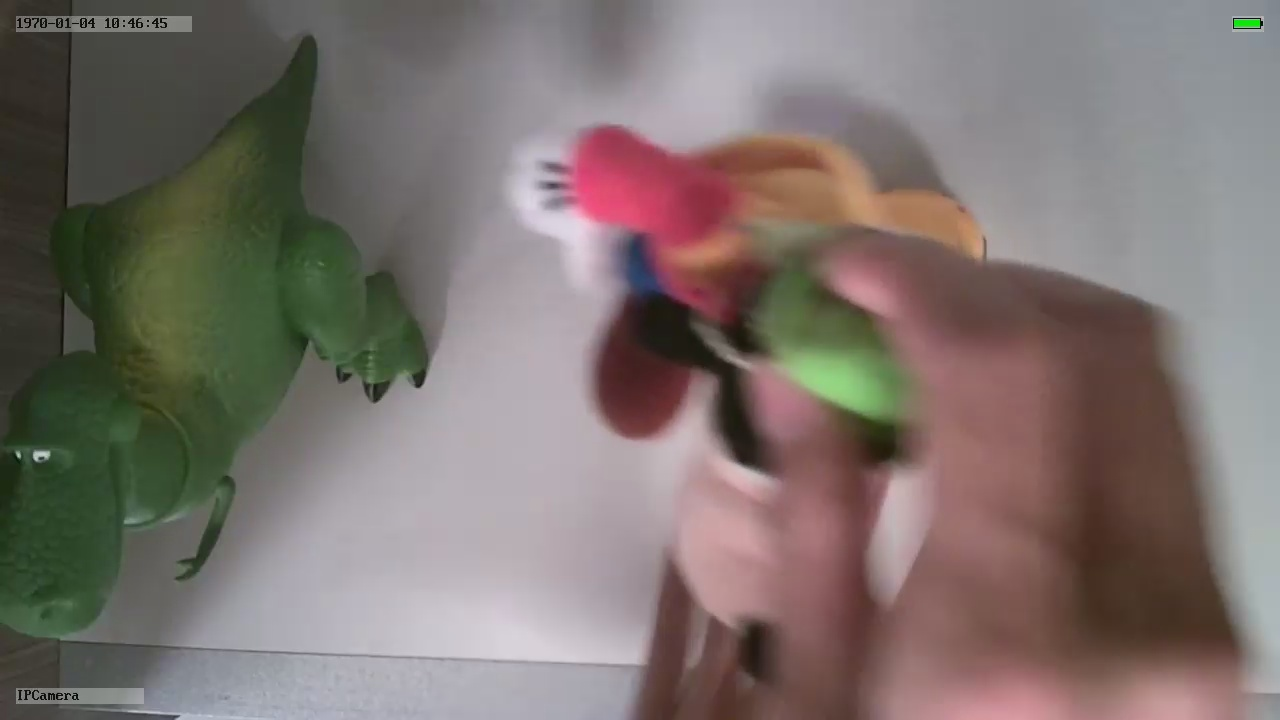rex: (1, 131, 434, 641)
